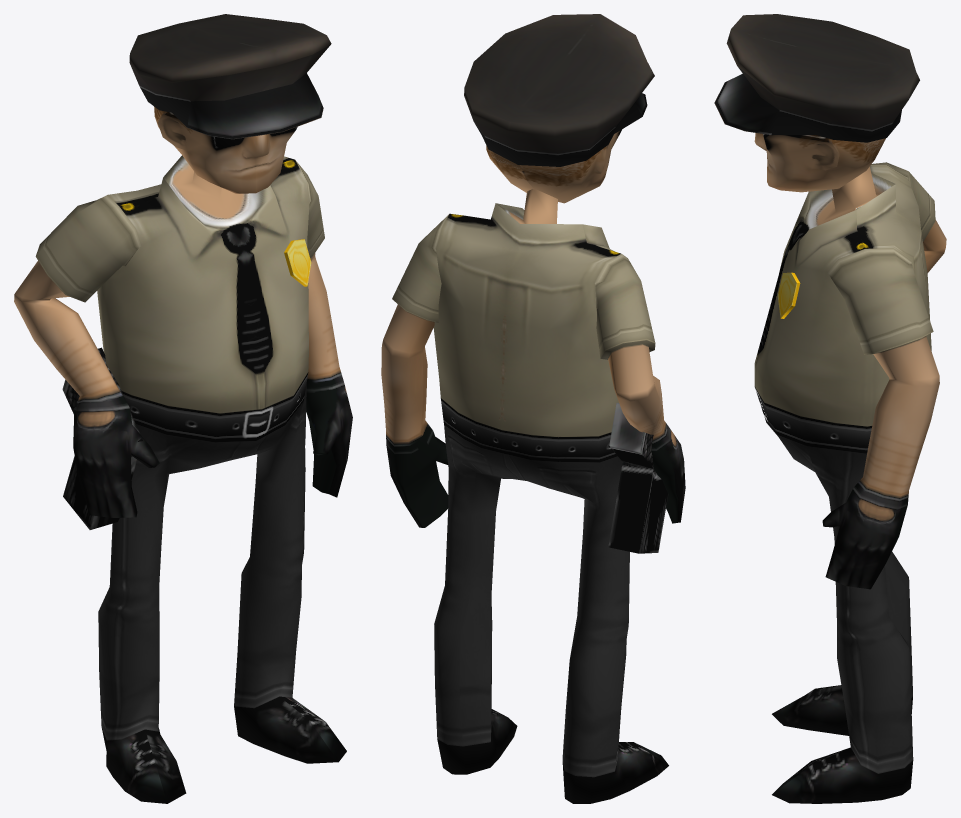
File: GuardProxy.fbx
3 renders of one model, left to right at view 1: azimuth 30°, elevation 25°; view 2: azimuth 150°, elevation 25°; view 3: azimuth 270°, elevation 25°, orthographic. The views are drawn at different scales.
Visible parts, largest first — view 1: GuardMesh; view 2: GuardMesh; view 3: GuardMesh.
Boxes of the visible parts, x1,y1,x2,y2 form: GuardMesh: (14, 14, 352, 803); GuardMesh: (381, 14, 685, 803); GuardMesh: (714, 14, 946, 803).
Bounding box in the file's own units: 0.9219 × 2.22 × 0.6399.
2 materials, 2 textured.
